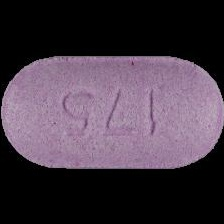49999-797: (0, 0, 224, 224)
